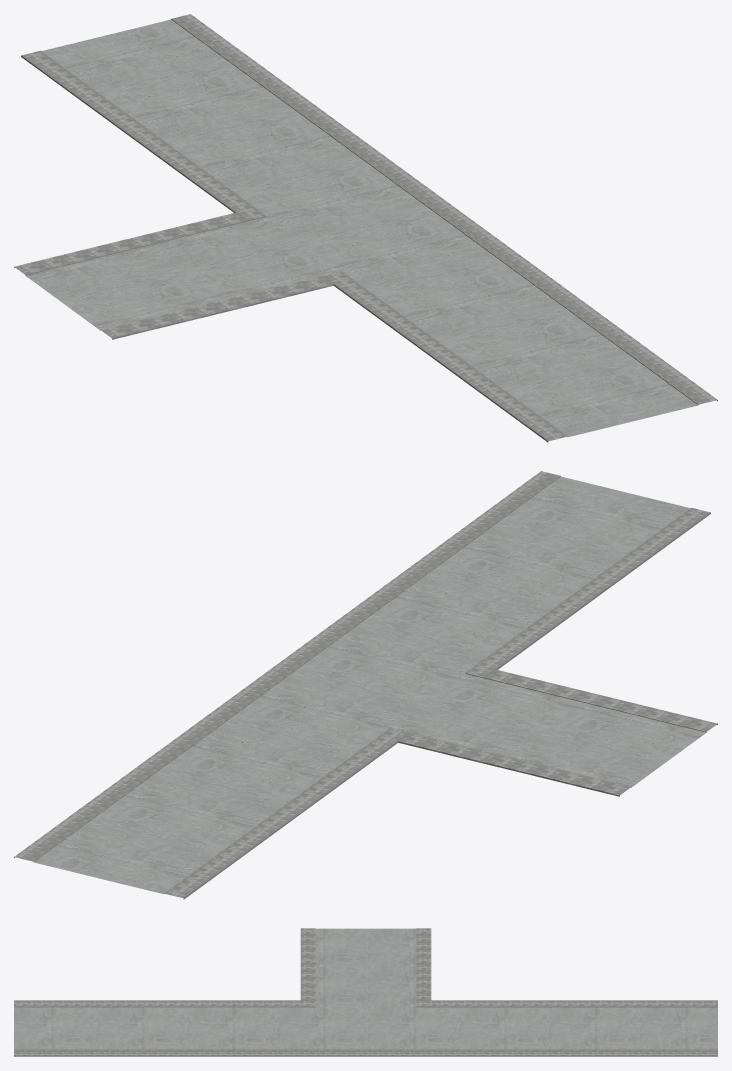
3 views of the same model, one above another, from view 1: azimuth 30°, elevation 25°; view 2: azimuth 150°, elevation 25°; view 3: azimuth 270°, elevation 25° (orthographic). The views are drawn at different scales.
Parts seen in each view (by area): view 1: T Road Piece; view 2: T Road Piece; view 3: T Road Piece.
Part boxes in pixels (bbox=[...]): T Road Piece: bbox=[14, 14, 717, 442]; T Road Piece: bbox=[14, 471, 717, 899]; T Road Piece: bbox=[14, 928, 717, 1056].
Size of the model in its own units: 30 by 0.1125 by 70.
